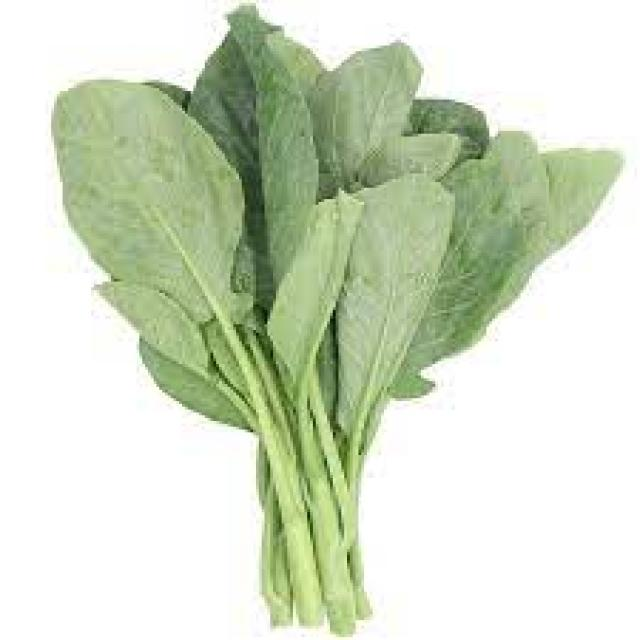collard: (41, 8, 618, 620)
